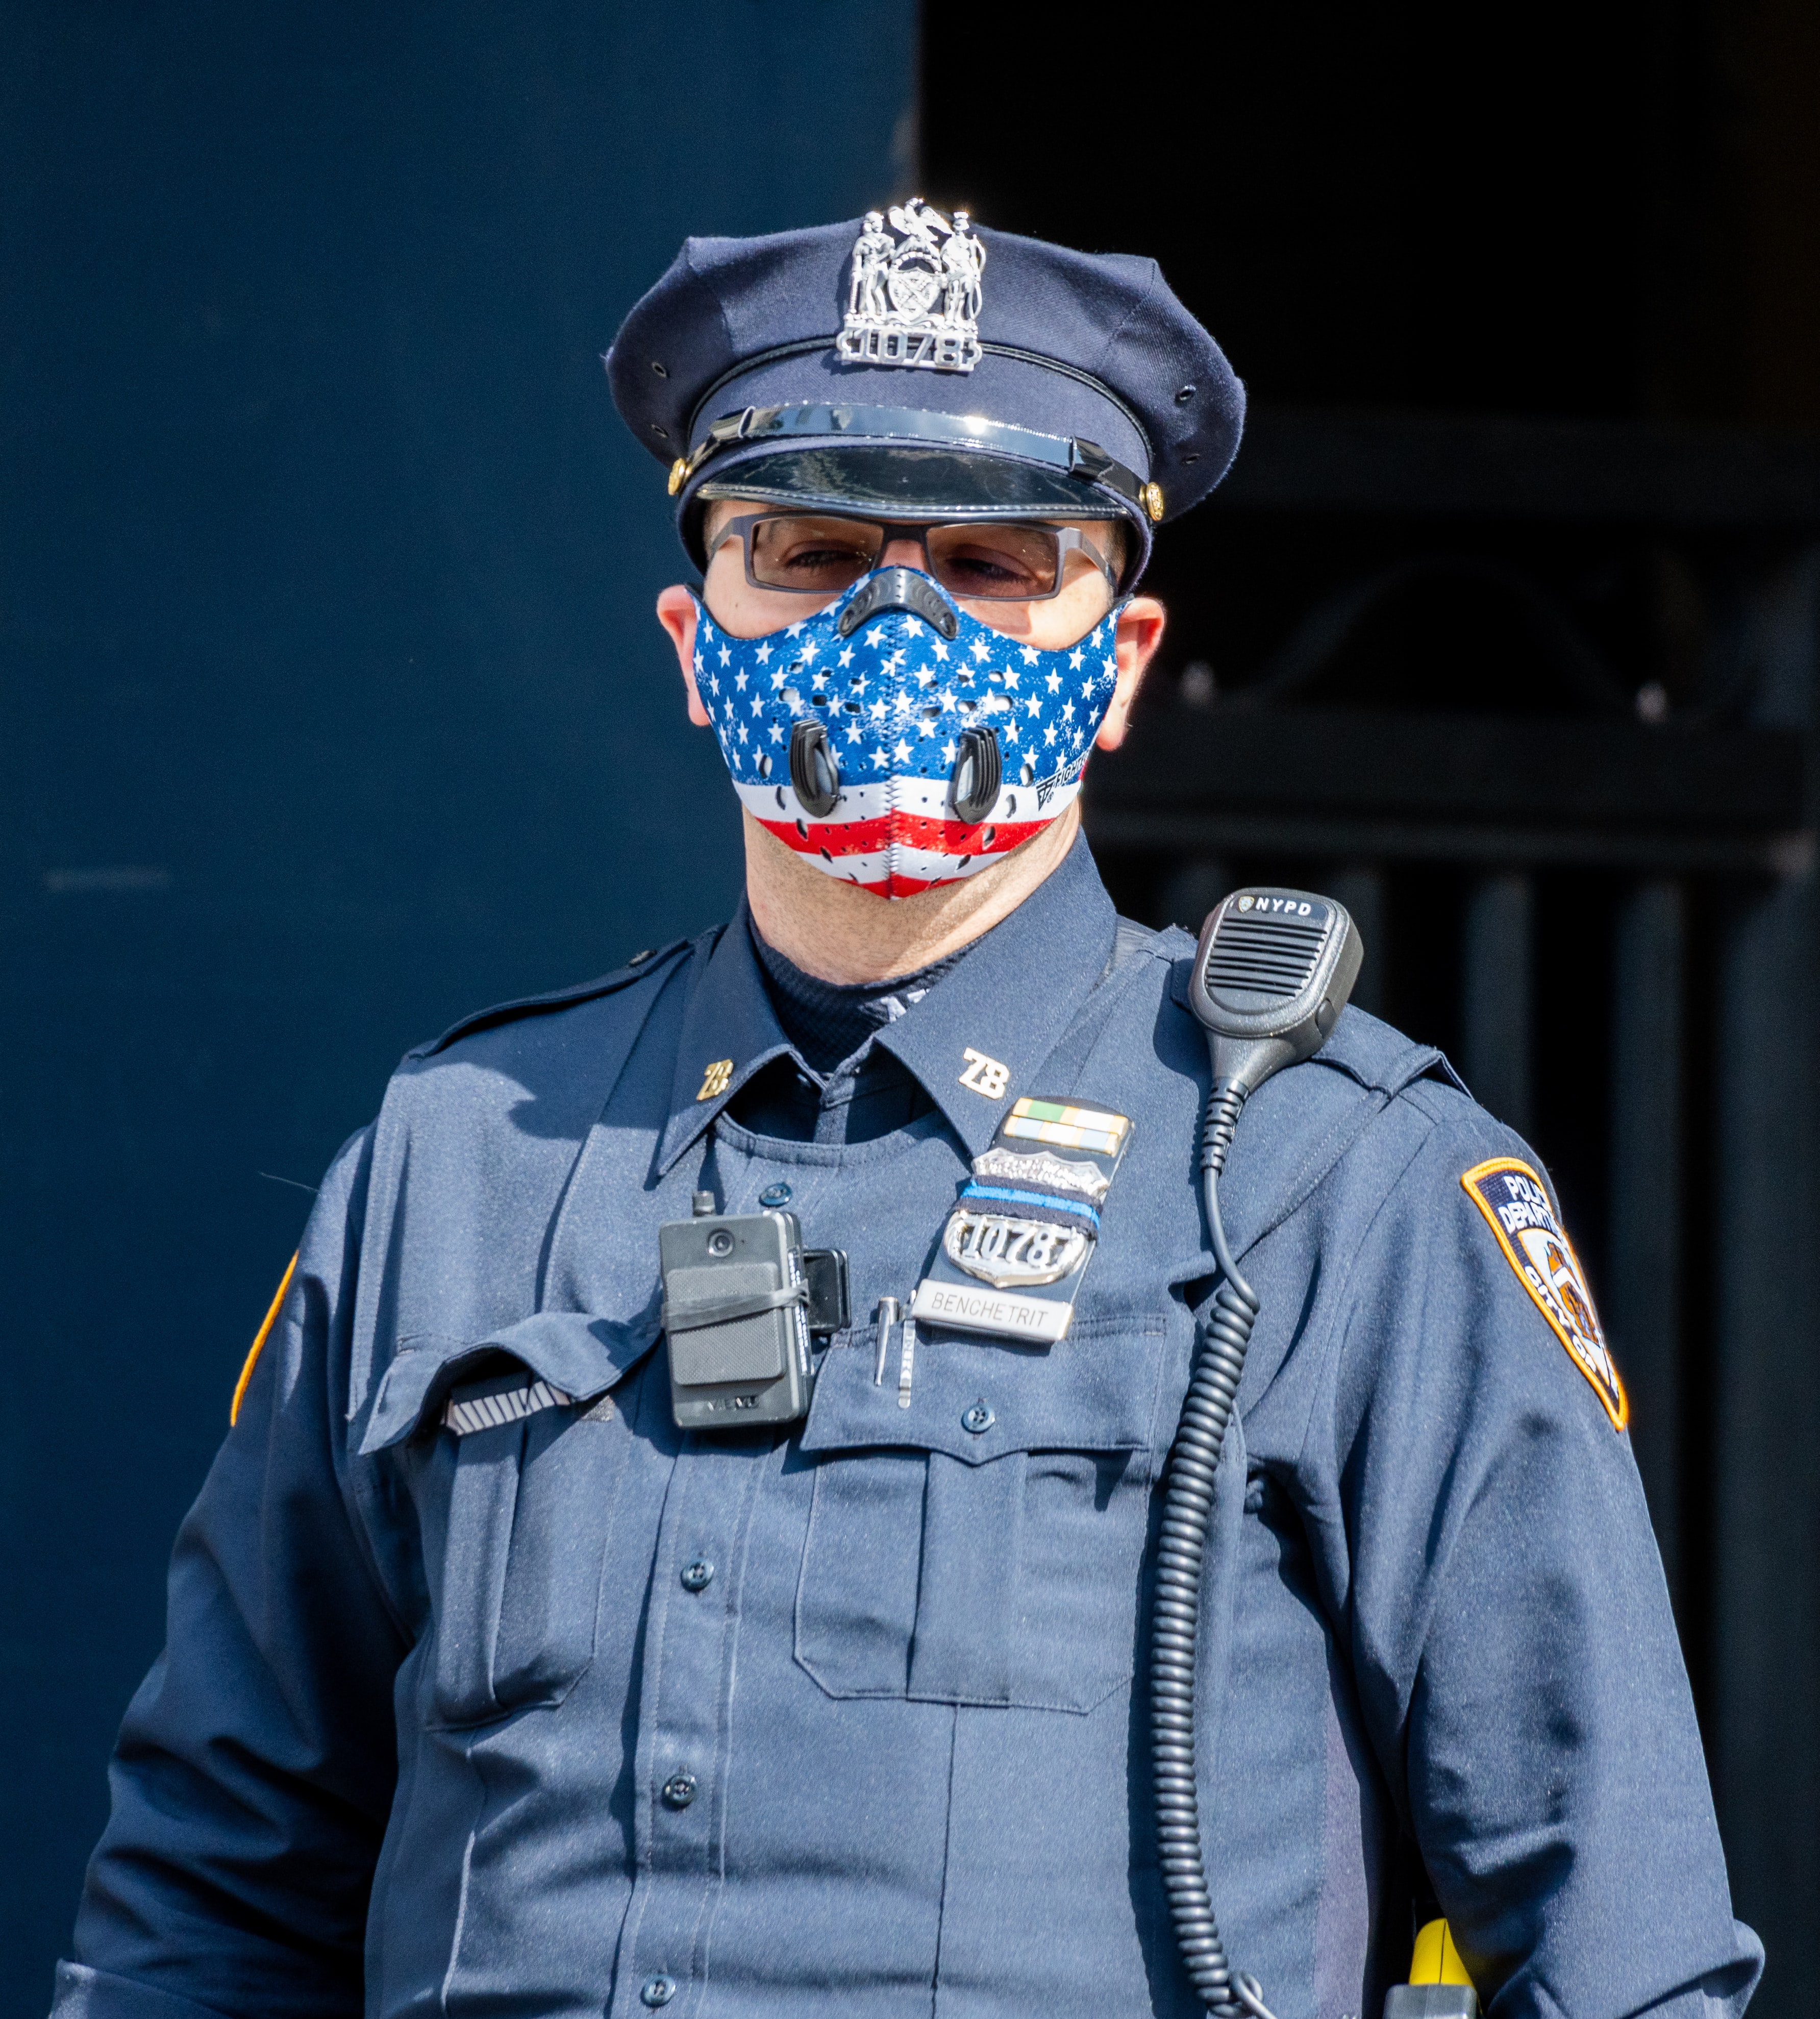mask: (681, 569, 1158, 902)
person: (100, 158, 1790, 2019)
